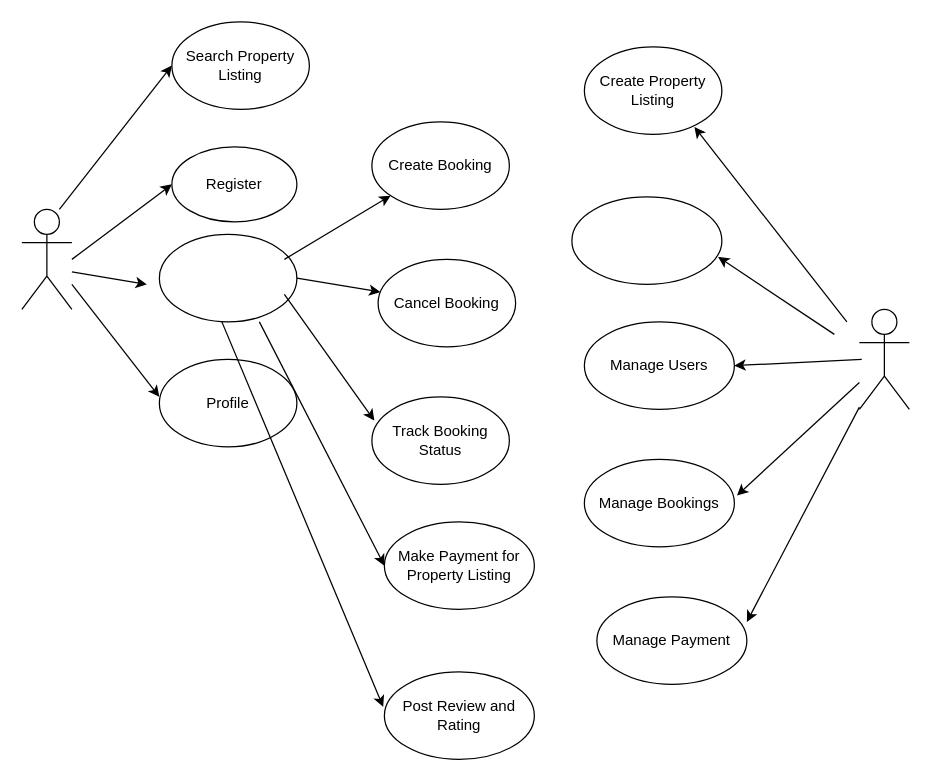
Image size: 931x781. Some labels were removed from this diagram. The box of each missing label's shape, as (x1, y1, x2, y2) in pixels:
Guest: (21, 208, 72, 309)
Host: (858, 308, 909, 409)
Login: (158, 233, 297, 322)
Manage Property Listing: (571, 196, 722, 284)
